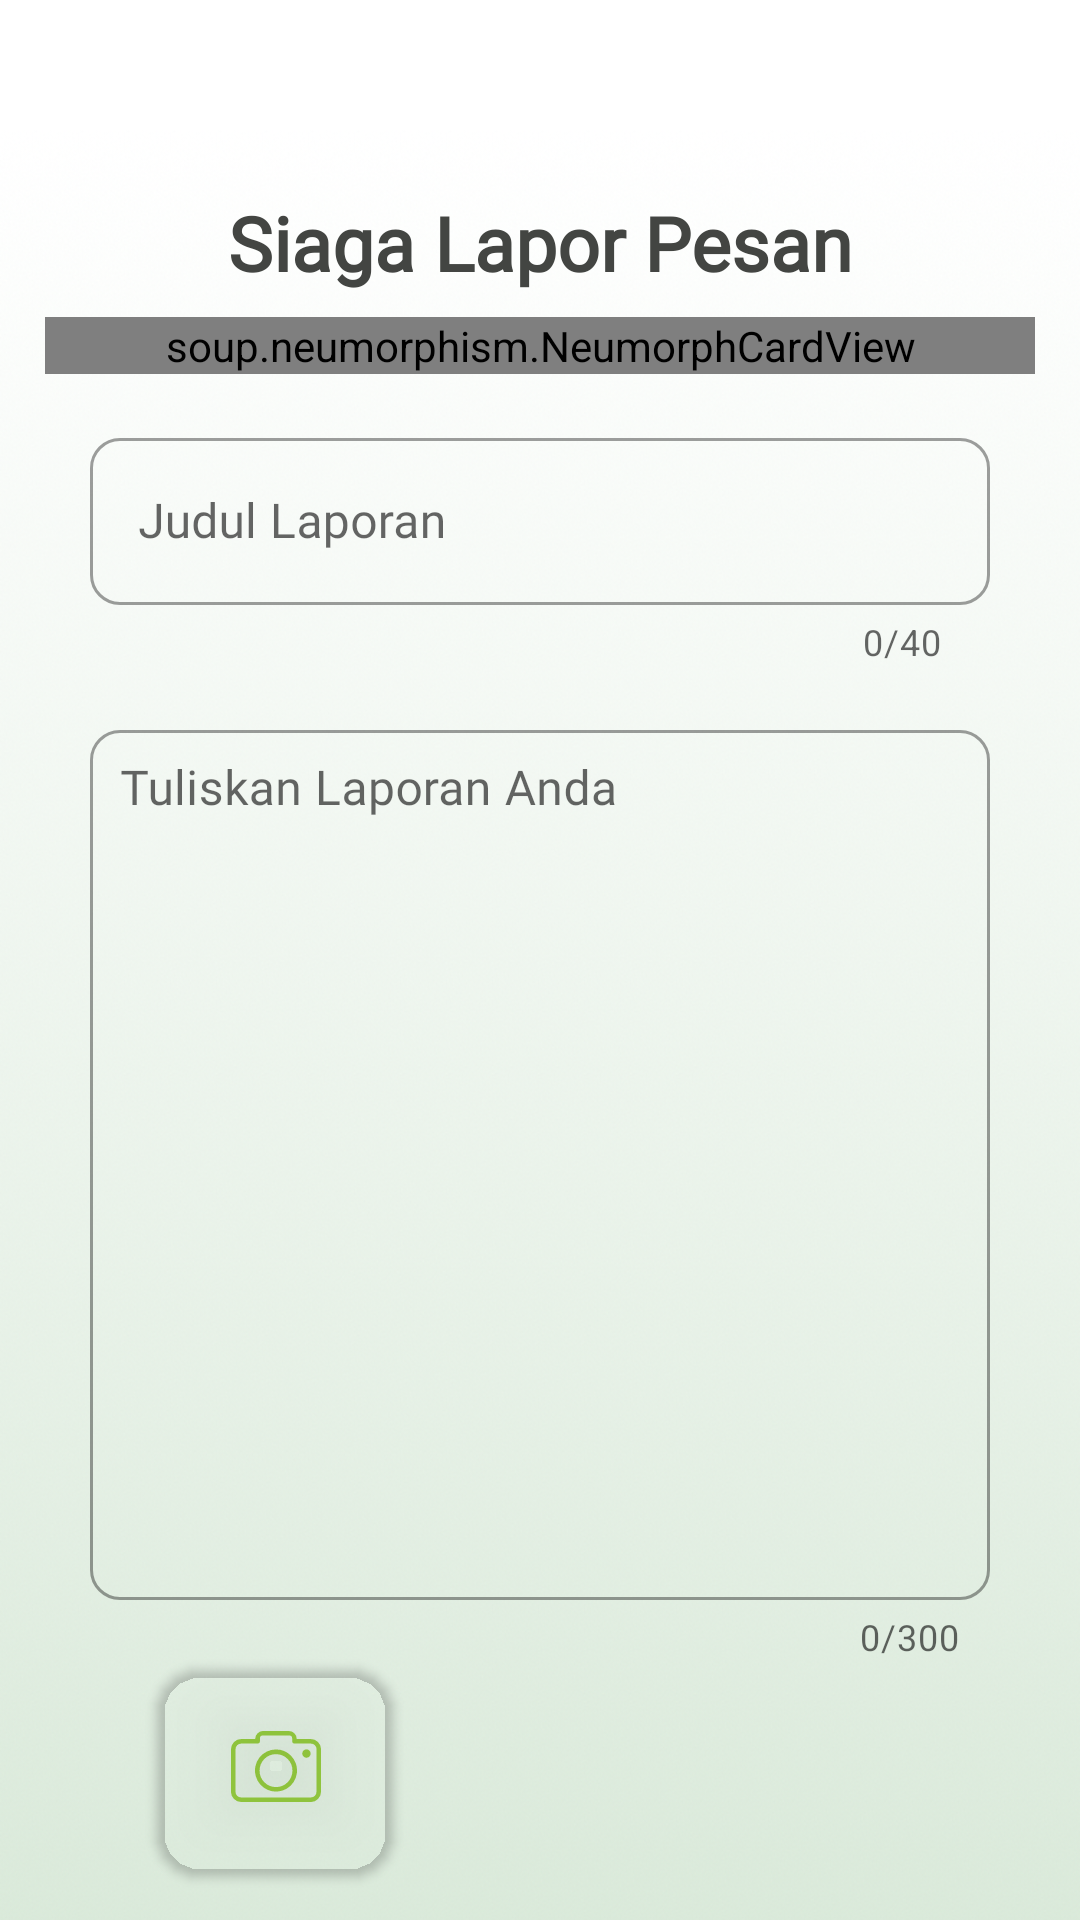

Named icons in this screenshot (1080px x 1920px) and their centers, (x=x, y=y):
camera: (x=276, y=1766)
